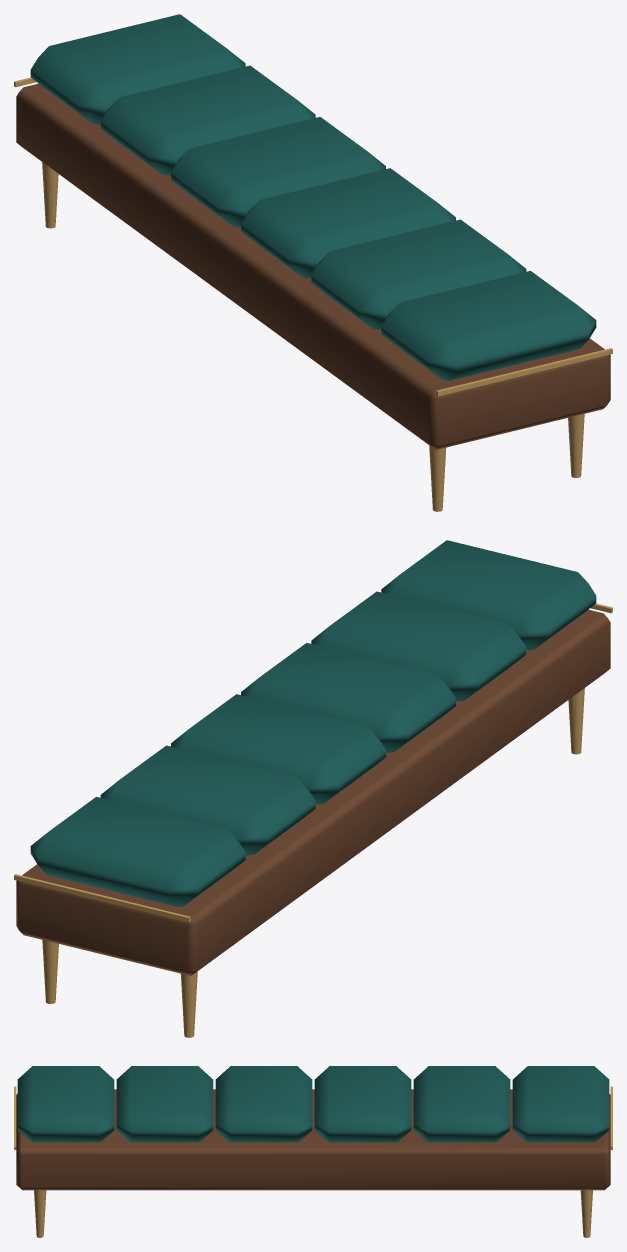
The model's file is bench_velvet.glb.
The picture shows the model from 3 angles, top to bottom: view 1: azimuth 30°, elevation 25°; view 2: azimuth 150°, elevation 25°; view 3: azimuth 270°, elevation 25°; orthographic projection. The views are drawn at different scales.
Visible parts, largest first — view 1: Mesh_Base, Mesh_Cushion5, Mesh_Cushion4, Mesh_Cushion1, Mesh_Cushion0, Mesh_Cushion3, Mesh_Cushion2, Mesh_EndR, Mesh_LegBR, Mesh_LegFR, Mesh_LegBL; view 2: Mesh_Base, Mesh_Cushion0, Mesh_Cushion1, Mesh_Cushion4, Mesh_Cushion5, Mesh_Cushion2, Mesh_Cushion3, Mesh_EndL, Mesh_LegBL, Mesh_LegFL, Mesh_LegBR; view 3: Mesh_Base, Mesh_Cushion0, Mesh_Cushion1, Mesh_Cushion2, Mesh_Cushion3, Mesh_Cushion4, Mesh_Cushion5, Mesh_LegFL, Mesh_LegFR.
Boxes of the visible parts, box(x1,y1,x2,y2) form: Mesh_Base: box(16, 83, 610, 449); Mesh_Cushion5: box(381, 271, 596, 380); Mesh_Cushion4: box(311, 219, 526, 329); Mesh_Cushion1: box(100, 65, 315, 175); Mesh_Cushion0: box(30, 14, 245, 124); Mesh_Cushion3: box(241, 168, 455, 278); Mesh_Cushion2: box(171, 117, 385, 226); Mesh_EndR: box(436, 348, 612, 396); Mesh_LegBR: box(429, 445, 446, 511); Mesh_LegFR: box(568, 414, 584, 477); Mesh_LegBL: box(42, 162, 58, 228); Mesh_Base: box(16, 609, 610, 975); Mesh_Cushion0: box(30, 797, 245, 906); Mesh_Cushion1: box(100, 745, 315, 855); Mesh_Cushion4: box(311, 591, 526, 701); Mesh_Cushion5: box(381, 540, 596, 650); Mesh_Cushion2: box(171, 694, 385, 804); Mesh_Cushion3: box(241, 643, 455, 752); Mesh_EndL: box(14, 874, 190, 922); Mesh_LegBL: box(180, 971, 197, 1037); Mesh_LegFL: box(42, 940, 58, 1003); Mesh_LegBR: box(568, 688, 584, 754); Mesh_Base: box(16, 1089, 610, 1190); Mesh_Cushion0: box(512, 1066, 609, 1142); Mesh_Cushion1: box(413, 1066, 510, 1142); Mesh_Cushion2: box(314, 1066, 411, 1142); Mesh_Cushion3: box(215, 1066, 312, 1142); Mesh_Cushion4: box(116, 1066, 213, 1142); Mesh_Cushion5: box(17, 1066, 114, 1142); Mesh_LegFL: box(580, 1190, 592, 1237); Mesh_LegFR: box(34, 1190, 46, 1237).
Bounding box in the file's own units: 0.5 × 0.46 × 2.02.
